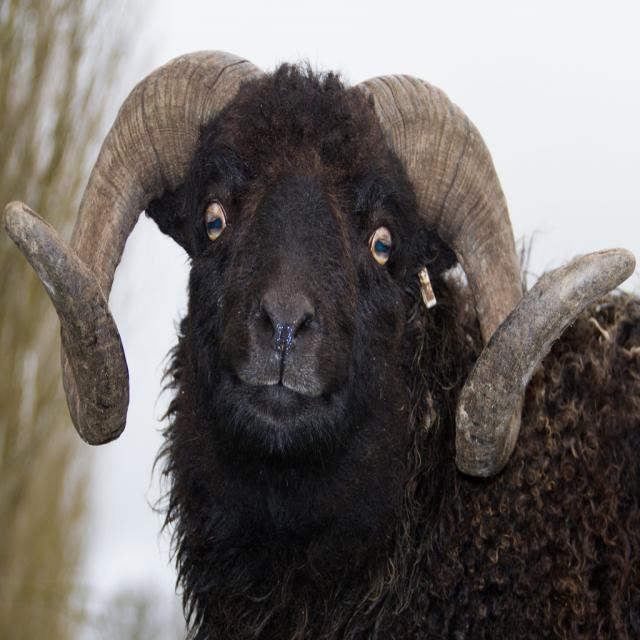Sheep: (2, 45, 640, 640)
